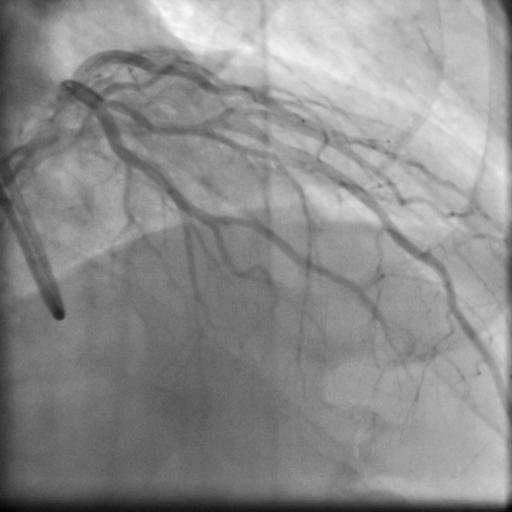Stenosis: (142, 115, 208, 139)
